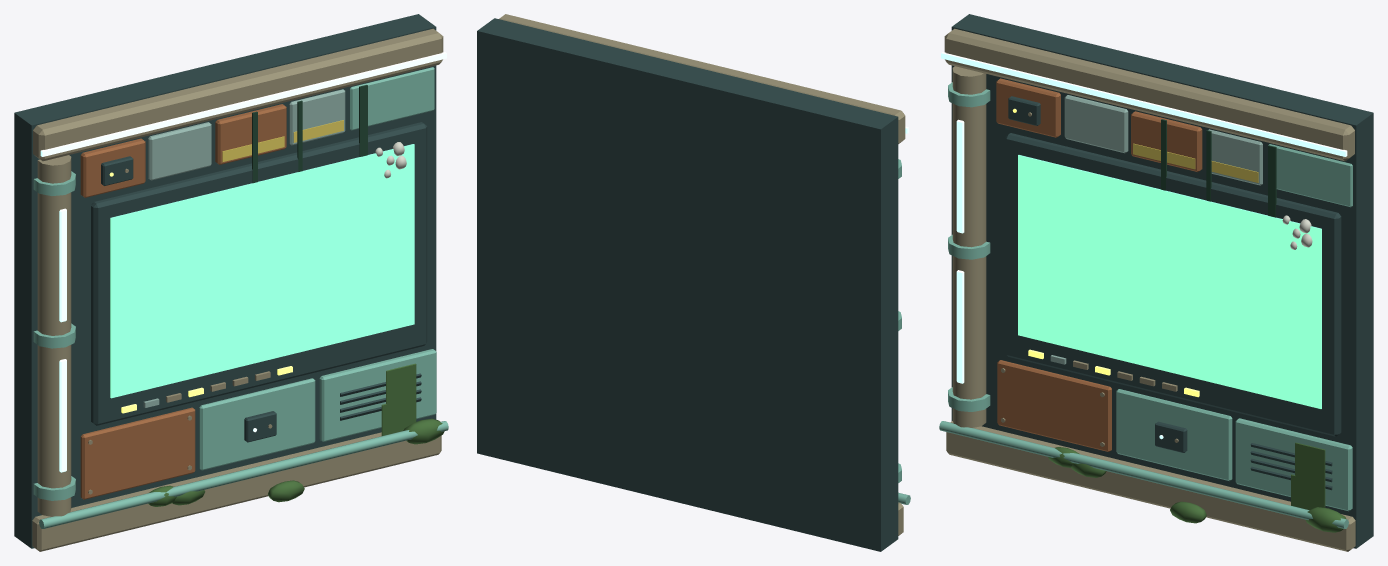
The model's file is wall_dr_bigscreen2.glb.
3 renders of one model, left to right at view 1: azimuth 30°, elevation 25°; view 2: azimuth 150°, elevation 25°; view 3: azimuth 330°, elevation 25°, orthographic.
Parts seen in each view (by area): view 1: wall_dr_bigscreen2; view 2: wall_dr_bigscreen2; view 3: wall_dr_bigscreen2.
Part boxes in pixels (bbox=[...]): wall_dr_bigscreen2: bbox=[14, 14, 448, 551]; wall_dr_bigscreen2: bbox=[477, 14, 910, 551]; wall_dr_bigscreen2: bbox=[939, 14, 1373, 551].
Bounding box in the file's own units: 4 × 4.05 × 0.5395.
